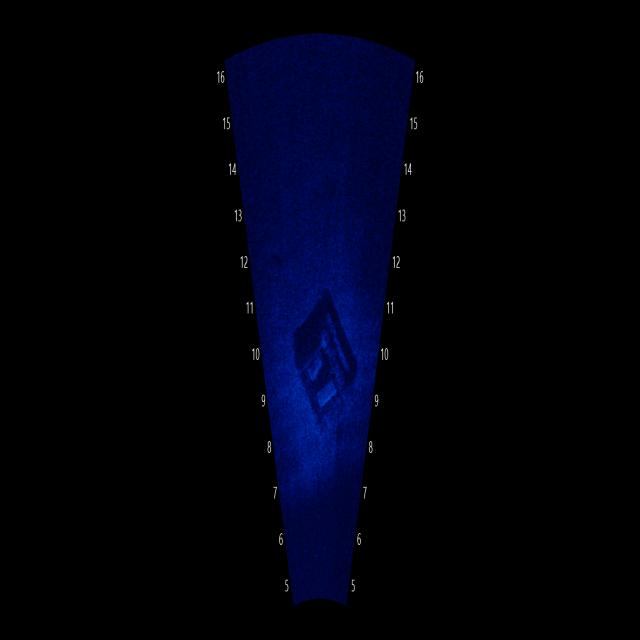square: (279, 260, 364, 438)
